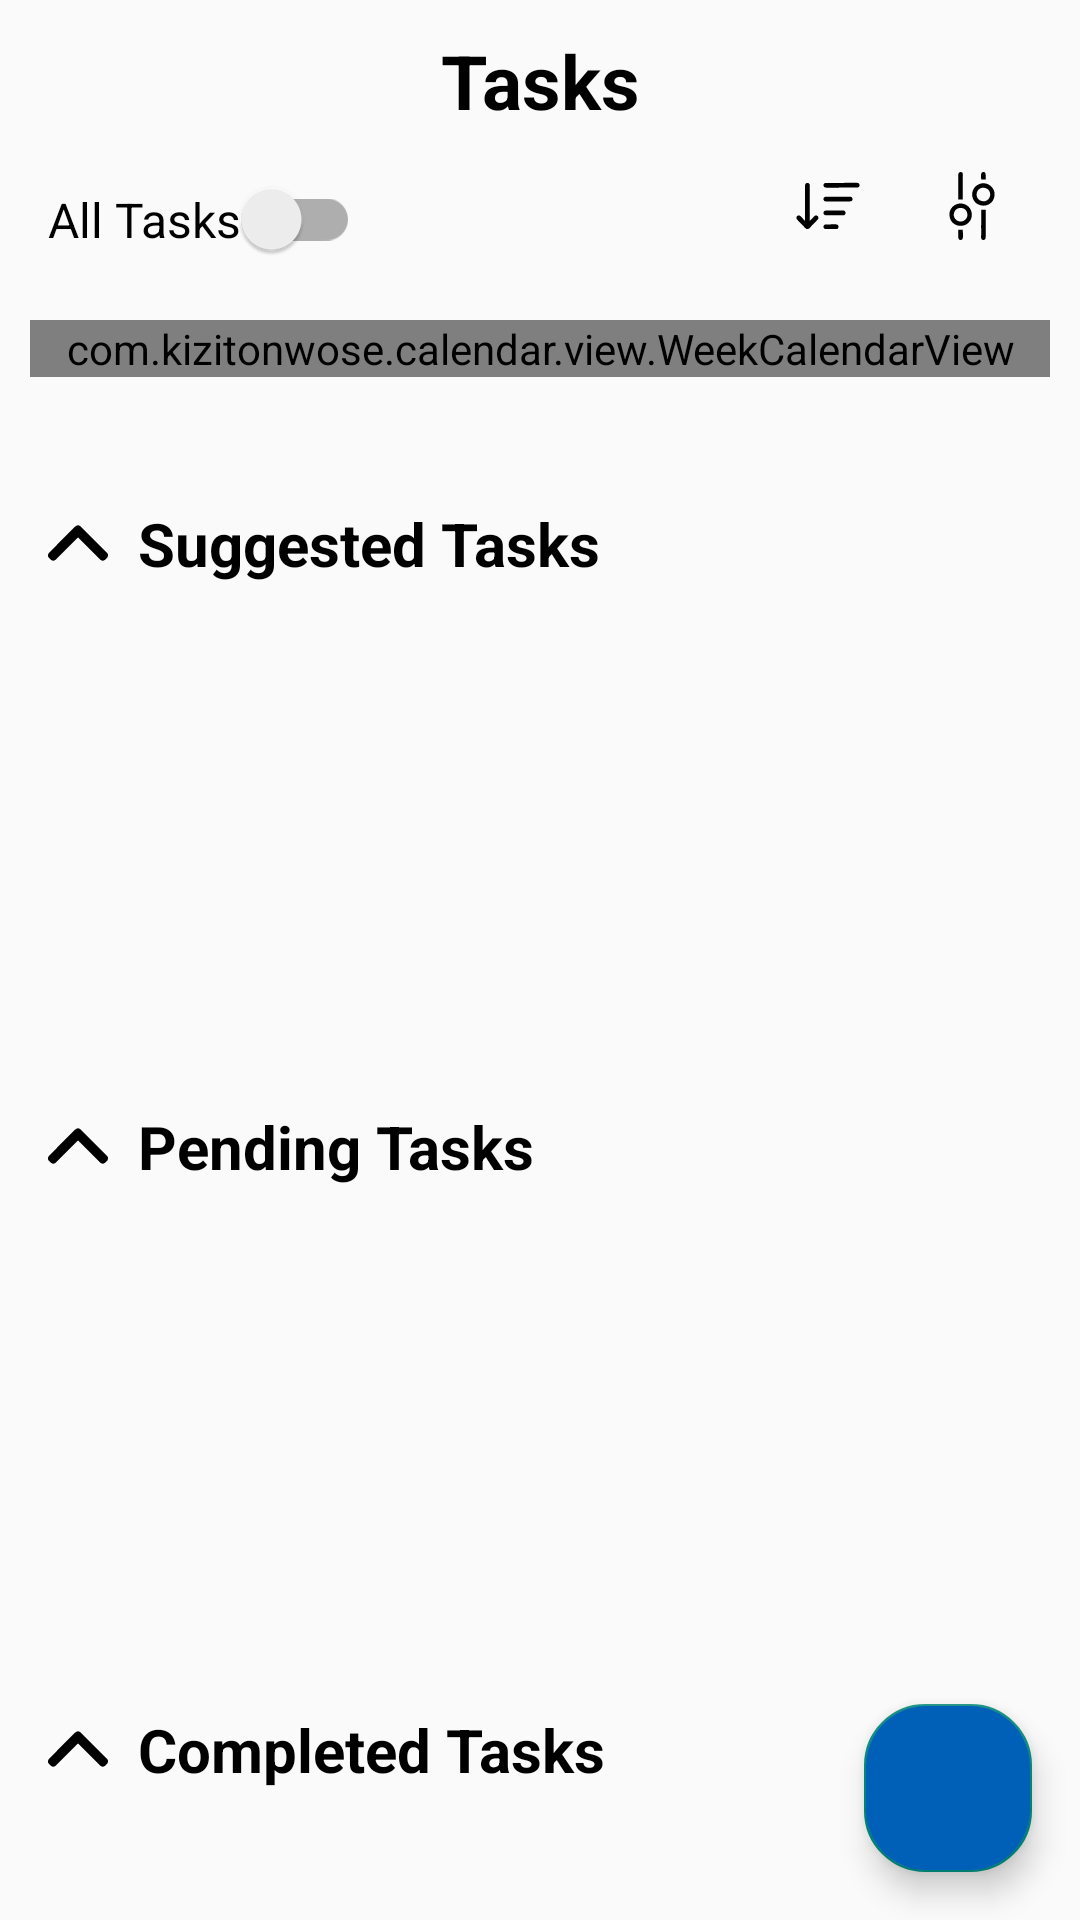

Icon bounding boxes for this 1080w x 1920h phone screenshot, format (x1, y1, x2, y2):
adjustment: (949, 172, 995, 240)
sort: (796, 182, 860, 229)
